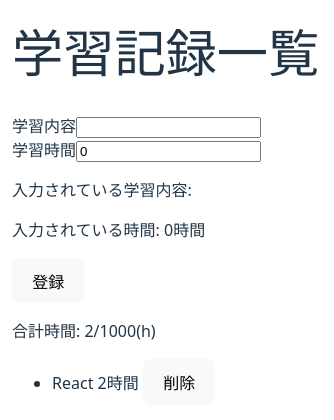
Test: Validation Test › 入力をしないで登録を押すとエラーが表示される
Click the button "登録": (48, 281) [12,258,84,304]
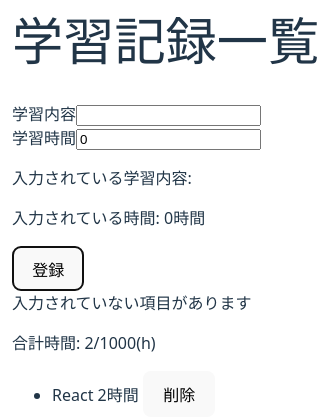
expect the text "入力されていない項目があります" is shown: met, box [12,292,252,314]
